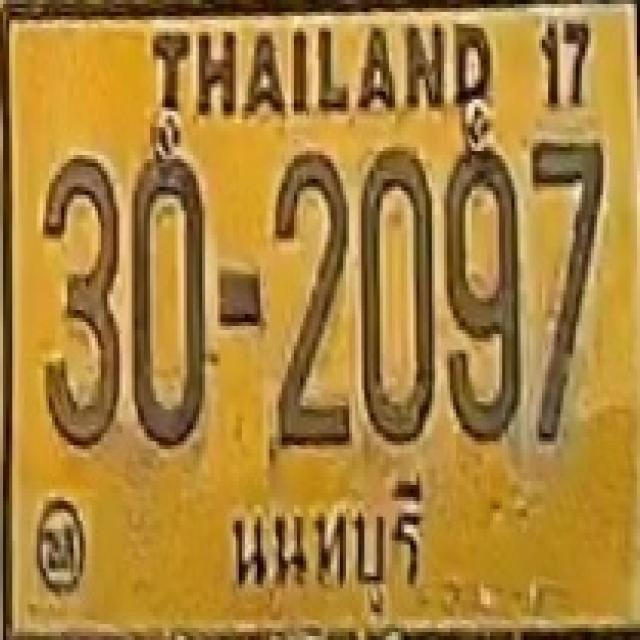0: (130, 143, 207, 449), (358, 145, 435, 443)
2: (273, 151, 349, 406), (270, 211, 349, 449)
3: (40, 155, 119, 449)
7: (530, 137, 603, 431), (530, 139, 603, 382), (530, 137, 603, 356)
9: (444, 145, 521, 443)
NBI: (219, 472, 441, 619)
